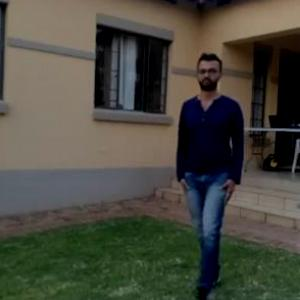follow: (174, 65, 241, 270)
